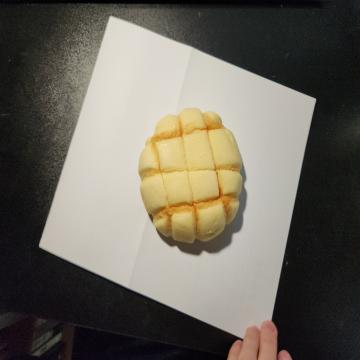melon_bread: (138, 108, 244, 249)
